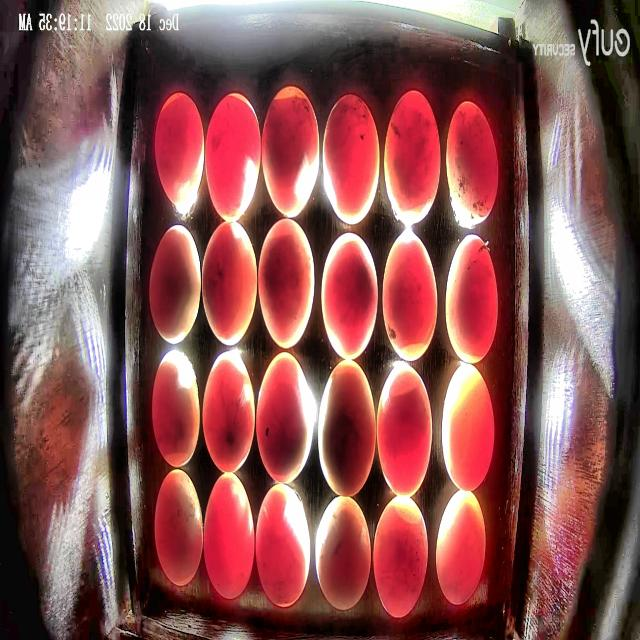FE: (318, 357, 377, 499), (383, 89, 441, 227), (322, 91, 381, 225), (254, 353, 314, 483), (204, 89, 262, 223), (262, 84, 320, 216), (320, 231, 379, 360), (376, 362, 432, 497), (382, 229, 438, 363), (258, 220, 315, 347), (441, 365, 496, 491), (445, 97, 499, 225), (314, 494, 372, 612), (445, 235, 498, 364), (201, 223, 257, 345), (256, 482, 310, 608), (201, 351, 256, 474), (373, 496, 428, 617), (148, 224, 203, 344), (204, 472, 255, 599), (435, 491, 488, 606), (151, 348, 200, 468), (154, 471, 204, 586), (155, 93, 204, 207)
